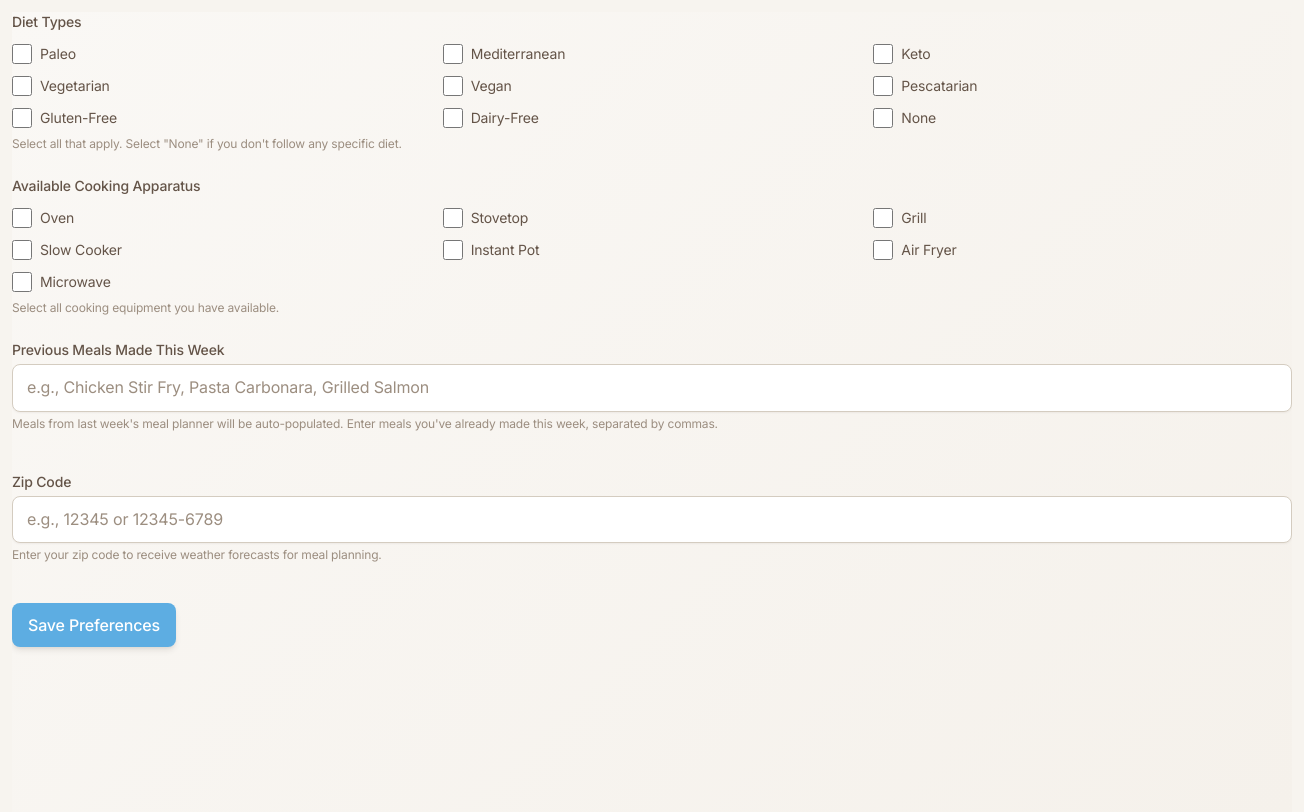
Test: PreferencesForm › prevents form submission with invalid zip code
Type "1234" into the field labelled "Zip Code" at [652, 519], box [12,496,1292,543]
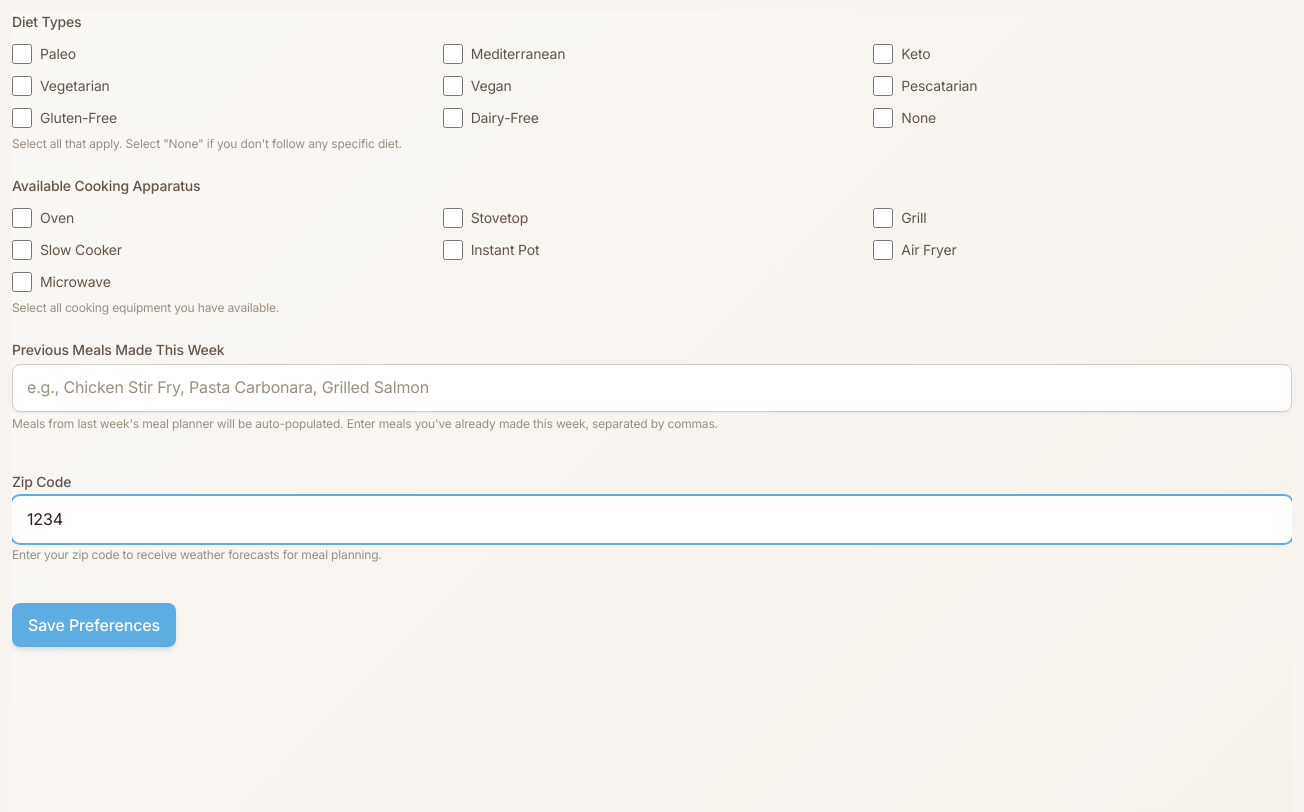
Click the button "Save Preferences" at [94, 625], box [12,603,176,647]
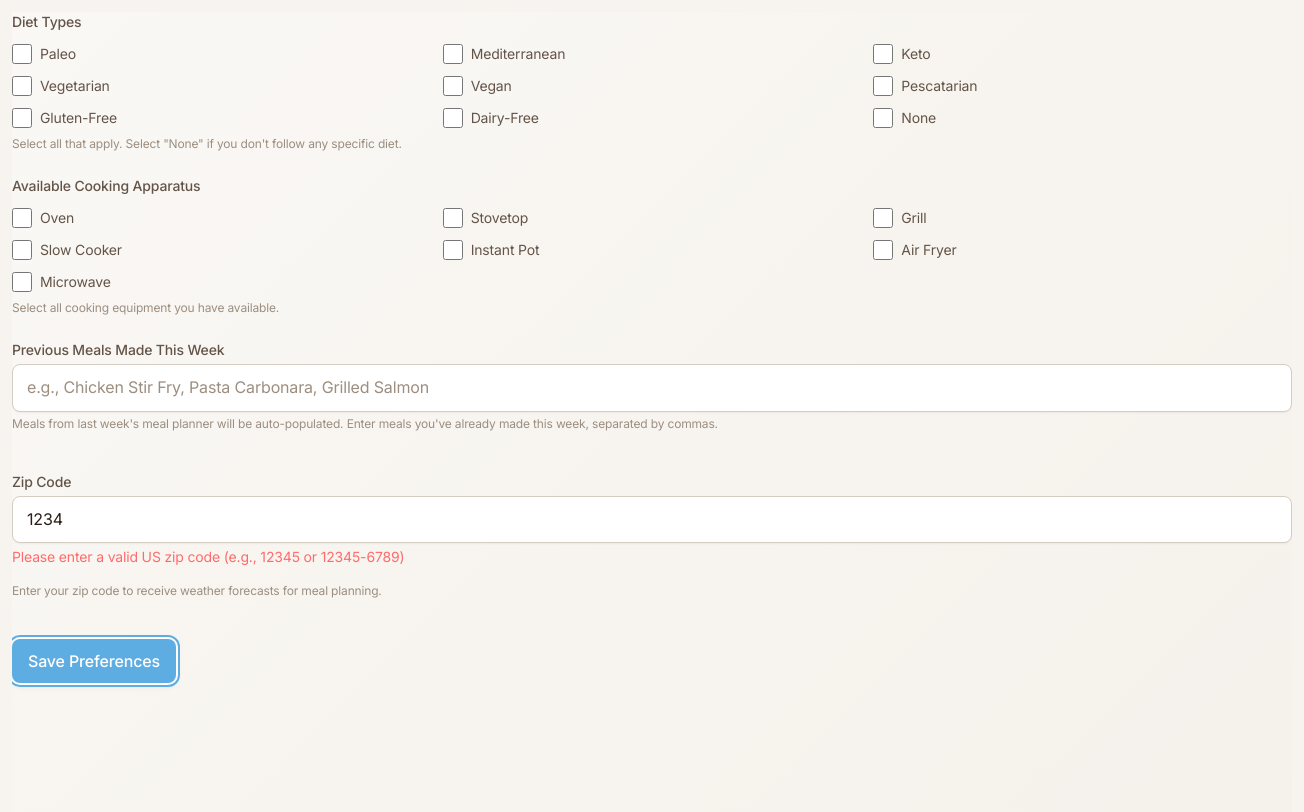
Now the text "Please enter a valid US zip code (e.g., 12345 or 12345-6789)" is shown, box [12,548,404,565]
